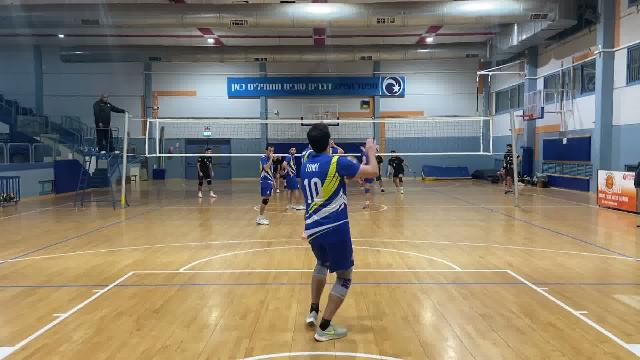ball: (345, 156, 360, 176)
